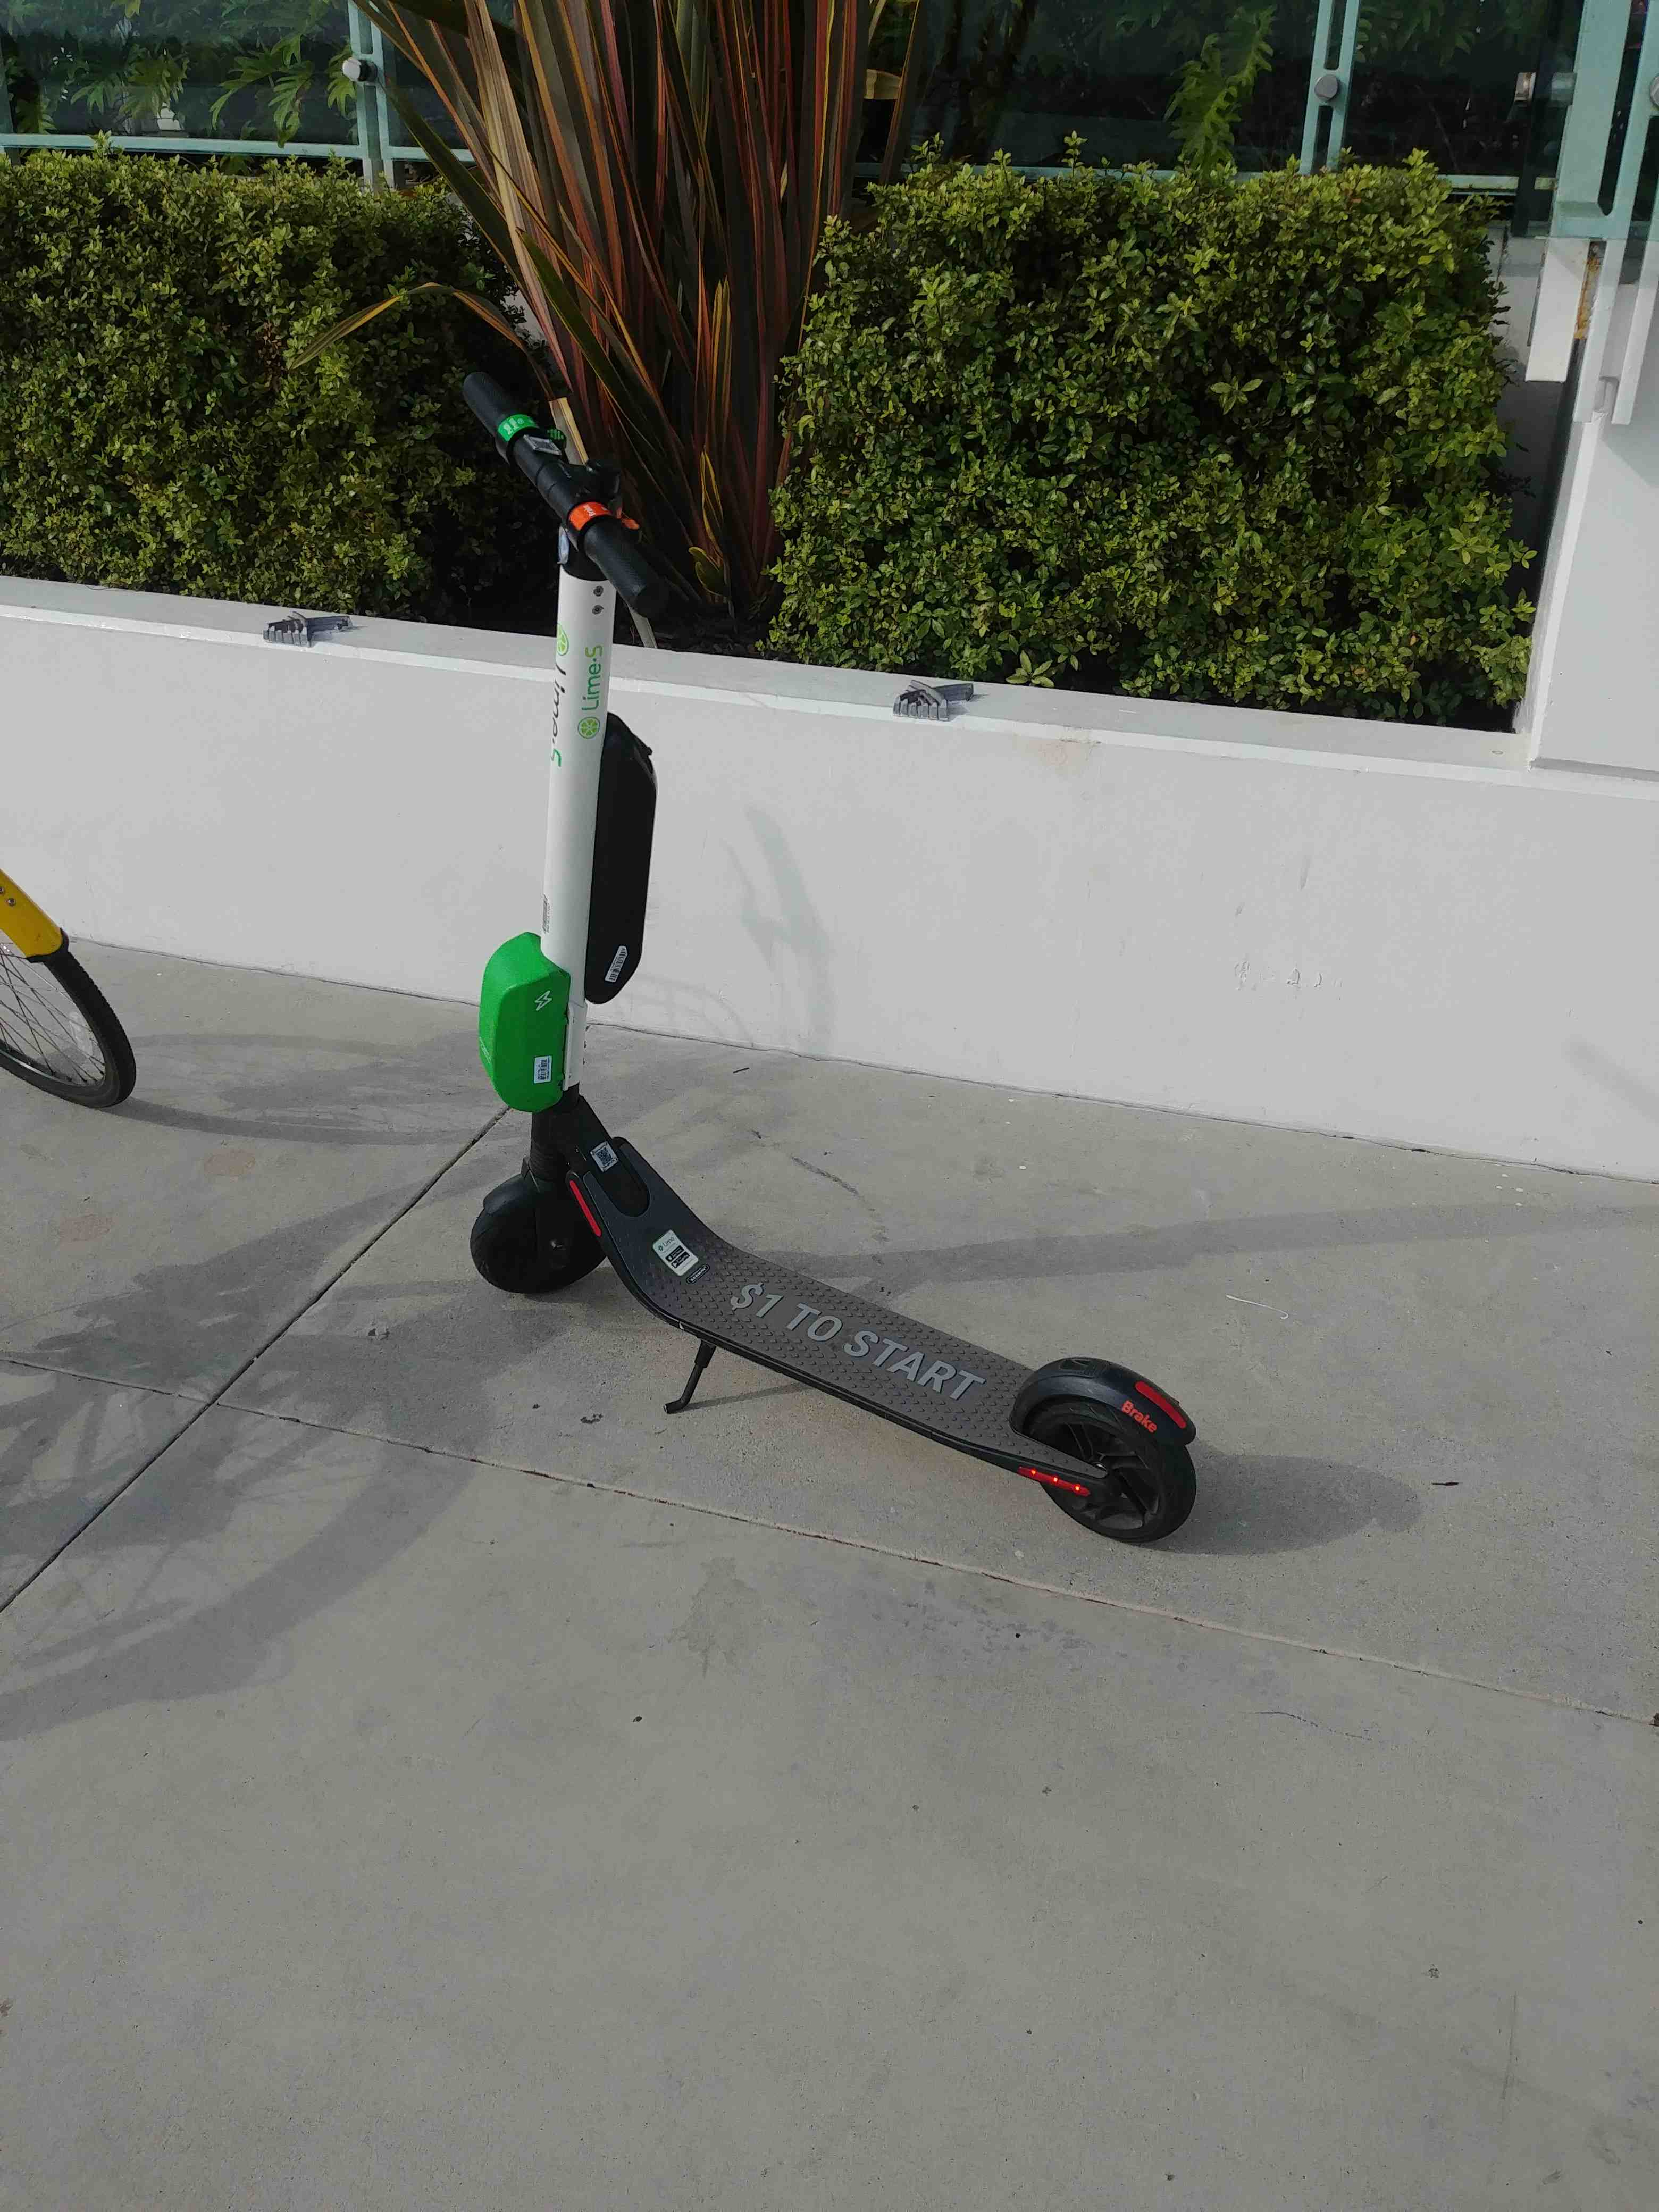scooter: (399, 266, 1236, 1566)
